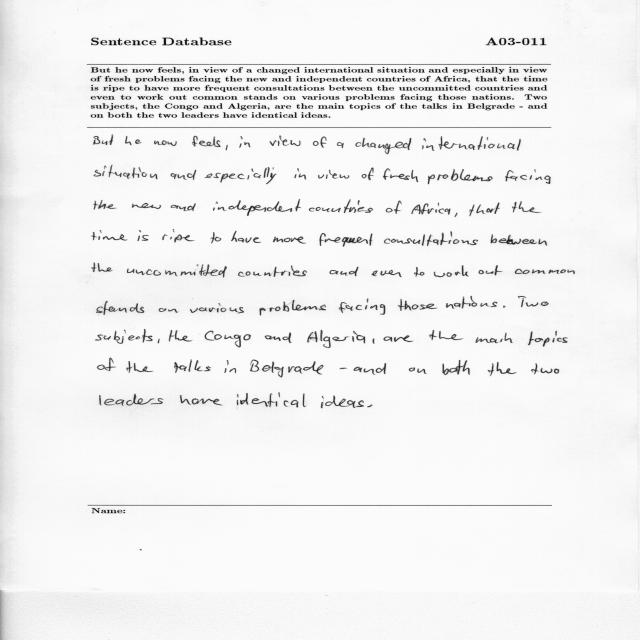word: (213, 199, 301, 216), (422, 136, 521, 151), (384, 231, 478, 246), (127, 264, 227, 278), (250, 360, 323, 378), (205, 167, 277, 184), (308, 330, 366, 348), (237, 393, 306, 408), (260, 300, 326, 315), (428, 169, 493, 184), (356, 138, 412, 154), (309, 199, 373, 213), (94, 165, 157, 179), (96, 329, 153, 344), (238, 265, 307, 277), (204, 331, 251, 348), (100, 394, 163, 406), (339, 299, 386, 315), (320, 233, 373, 247), (505, 169, 551, 184), (491, 234, 547, 246), (97, 301, 145, 315), (446, 296, 497, 309), (190, 303, 244, 314), (528, 331, 567, 346), (321, 396, 364, 409), (174, 359, 211, 373), (383, 168, 418, 182), (412, 203, 451, 215), (398, 299, 437, 311), (180, 395, 223, 405), (434, 265, 469, 277), (442, 360, 470, 375), (163, 230, 195, 243), (488, 362, 517, 376), (469, 203, 500, 216), (92, 230, 128, 241), (354, 363, 386, 375), (476, 333, 513, 343), (231, 231, 261, 243), (512, 201, 541, 213), (270, 136, 301, 147), (430, 330, 464, 340), (518, 297, 548, 308), (126, 361, 153, 373), (192, 136, 221, 147), (318, 169, 349, 179), (531, 364, 559, 375), (515, 269, 575, 274), (265, 332, 291, 343), (330, 267, 359, 276), (171, 170, 197, 180), (169, 330, 192, 341), (97, 358, 116, 371), (479, 265, 503, 275), (273, 237, 306, 244), (94, 200, 116, 210), (371, 270, 402, 277), (384, 335, 414, 342), (386, 201, 402, 214), (171, 204, 196, 212), (94, 135, 113, 145), (92, 263, 113, 272), (132, 203, 161, 209), (361, 168, 374, 181), (313, 136, 326, 148), (225, 360, 237, 373), (125, 136, 142, 145), (154, 140, 177, 146), (240, 136, 251, 148), (295, 168, 307, 179), (137, 230, 149, 241), (409, 367, 427, 374), (211, 232, 221, 243), (414, 267, 424, 277), (159, 308, 178, 313), (337, 142, 344, 148), (455, 213, 458, 217), (367, 405, 373, 407), (226, 145, 228, 150), (373, 339, 375, 344), (158, 339, 160, 343), (340, 368, 347, 369), (503, 306, 506, 308)
